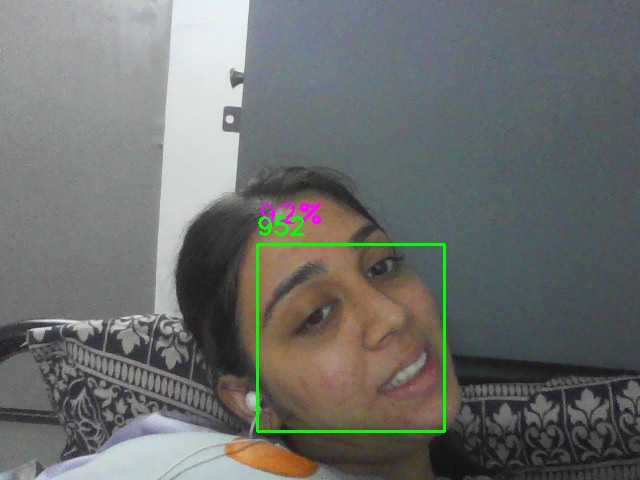real: (257, 244, 445, 432)
